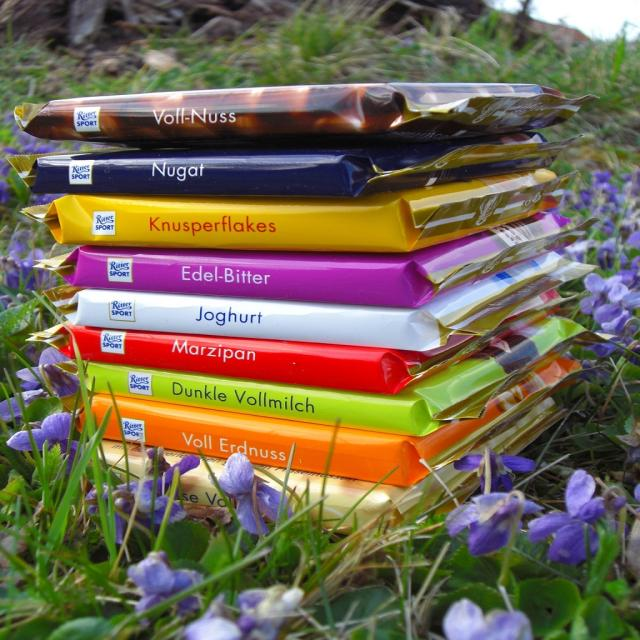rittersport: (73, 107, 103, 134), (100, 329, 129, 356), (91, 211, 119, 238), (106, 258, 135, 284), (105, 301, 139, 323), (128, 371, 155, 398), (68, 160, 95, 186), (120, 419, 148, 444)
